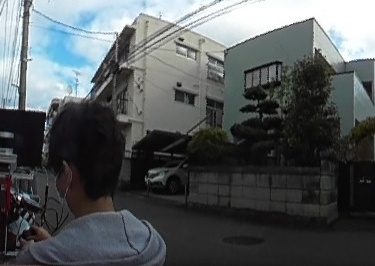person: (28, 103, 172, 266)
